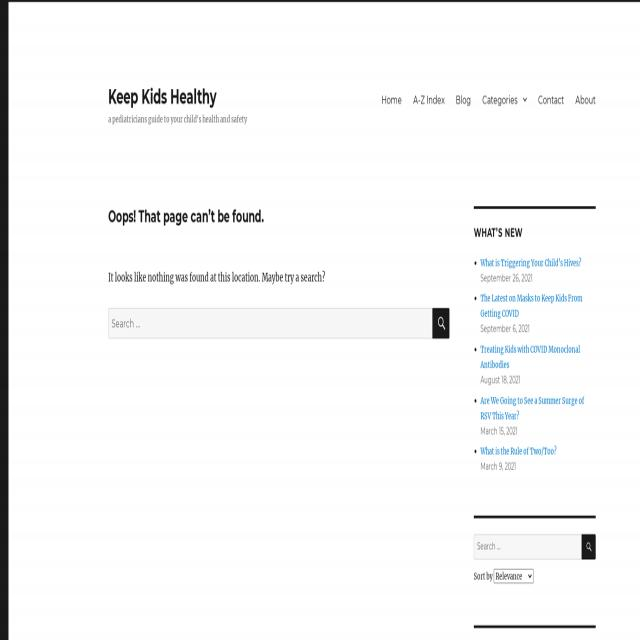button: (477, 82, 532, 112), (408, 82, 450, 112), (532, 82, 570, 112), (570, 82, 601, 112), (376, 82, 407, 112), (450, 82, 477, 112), (432, 306, 450, 336), (582, 532, 596, 557)
field: (108, 306, 432, 336), (474, 532, 582, 557), (494, 567, 534, 582)
